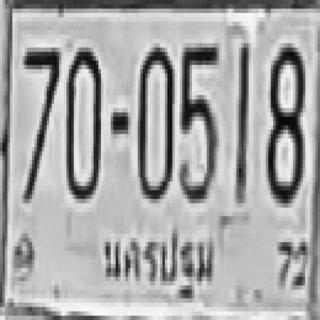N00: (135, 43, 172, 199), (64, 43, 101, 199)
N01: (234, 41, 249, 201)
N05: (177, 39, 217, 199)
N07: (22, 43, 59, 199)
N08: (263, 39, 303, 199)
P28: (96, 219, 218, 305)
